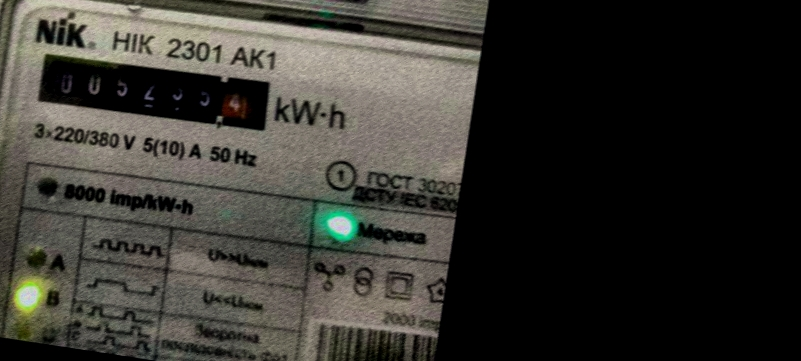0: (57, 66, 75, 93), (85, 68, 103, 94)
2: (140, 73, 159, 101)
3: (167, 74, 187, 101)
4: (224, 82, 246, 114)
5: (194, 77, 214, 107), (113, 70, 130, 96)
screen: (23, 34, 281, 143)
